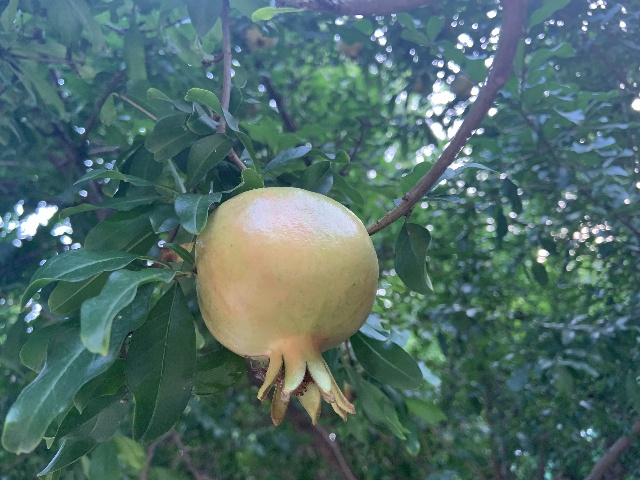mid-growth: (194, 185, 379, 430)
